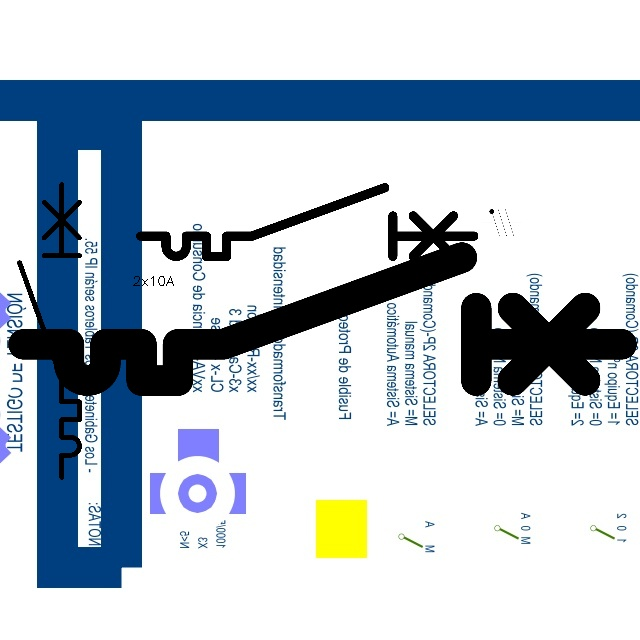interruptor_termomagnetico: (8, 242, 636, 396), (132, 179, 482, 265), (12, 177, 87, 485)
